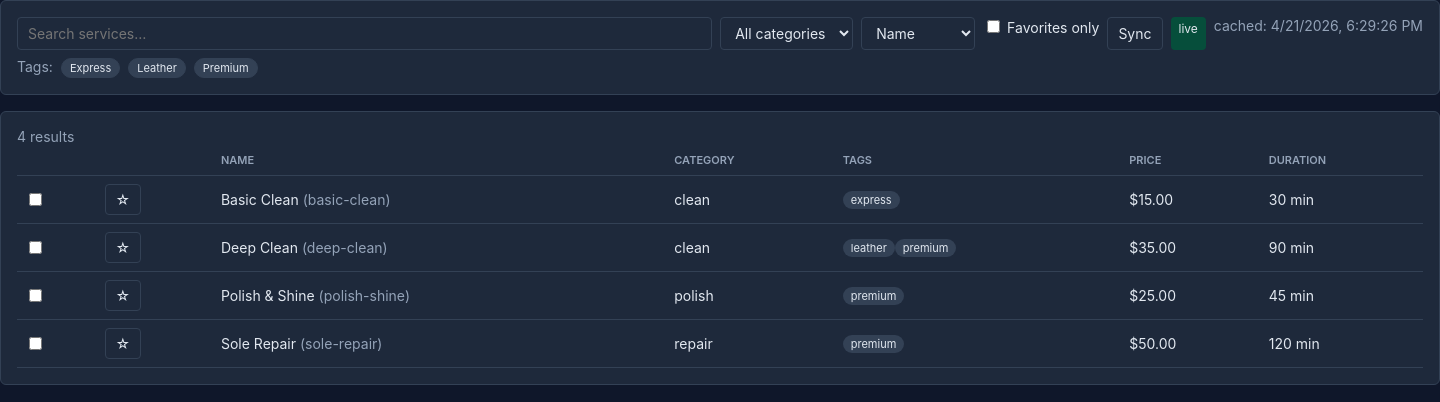
catalog filters › filters by category
Expected: the row with test id "svc-row-basic-clean" is shown, [17,176,1423,224]
Select "Cleaning" in the dropdown named "category-filter". click: (787, 34)
box: [720,17,853,50]
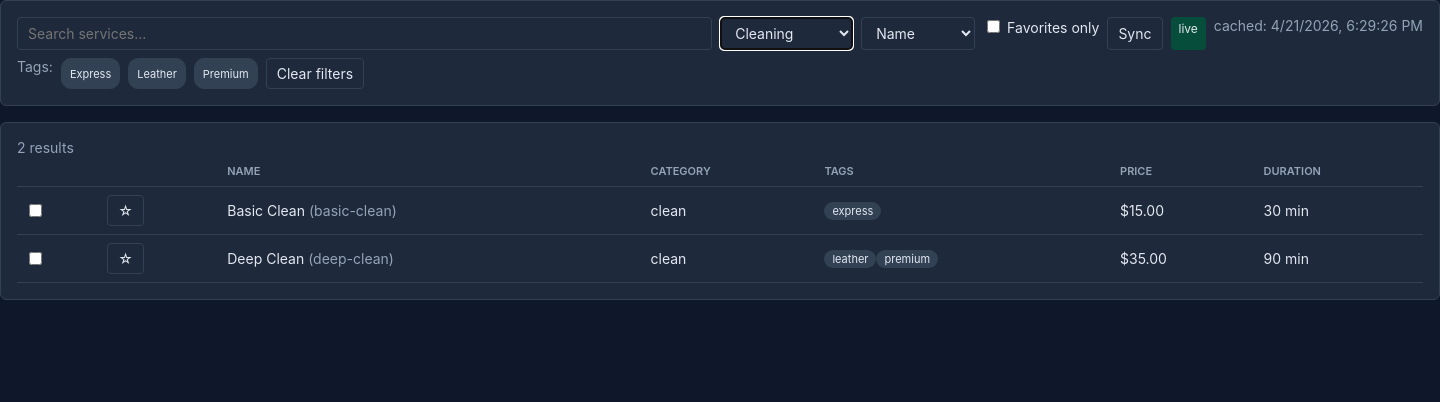
Expected: the row with test id "svc-row-basic-clean" is shown, [17,186,1423,234]
Expected: the row with test id "svc-row-sole-repair" is gone
Expected: the row with test id "svc-row-polish-shine" is gone
